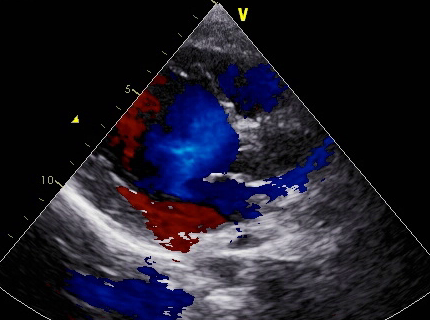MR: (180, 173, 229, 224)
